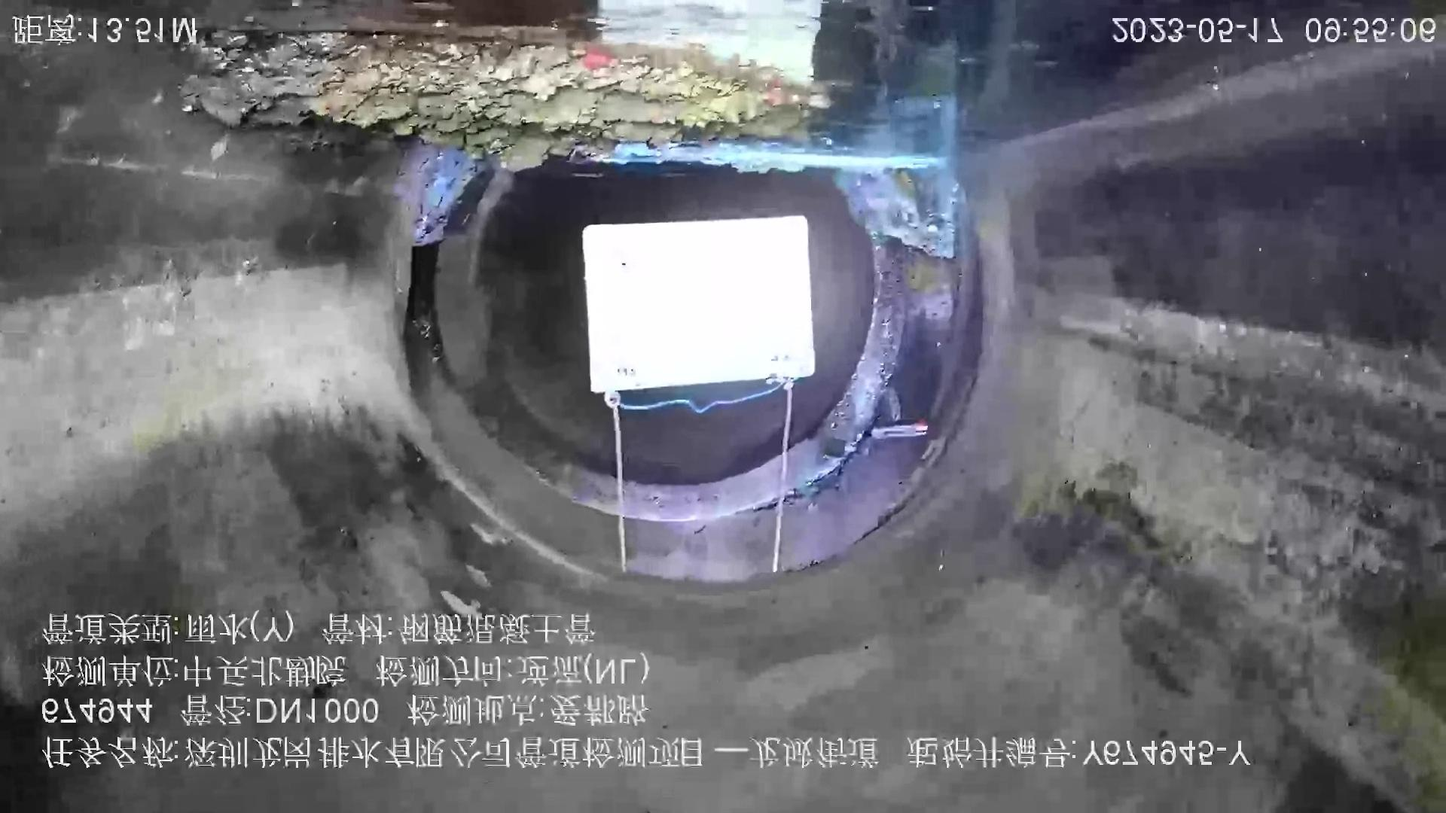CJ: (180, 32, 829, 169)
